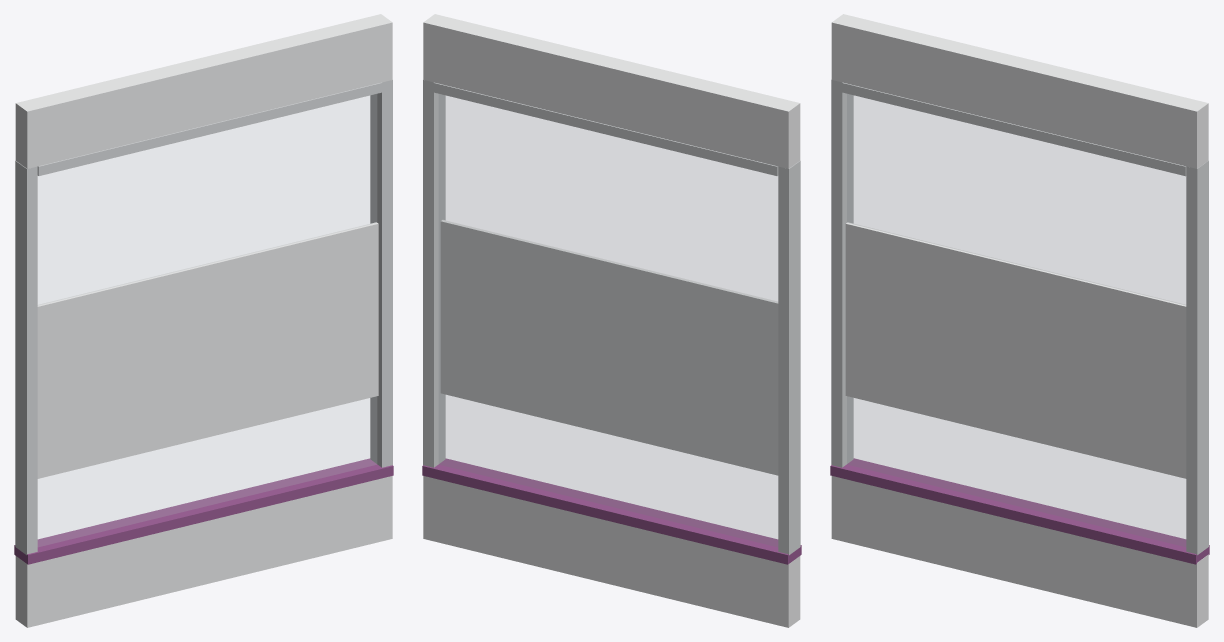
The model's file is pharmacy-and-high-street-chemist-consultation-room-pan-8801557f__37527.glb.
3 renders of one model, left to right at view 1: azimuth 30°, elevation 25°; view 2: azimuth 150°, elevation 25°; view 3: azimuth 330°, elevation 25°, orthographic.
Parts seen in each view (by area): view 1: consultation-room-panel; view 2: consultation-room-panel; view 3: consultation-room-panel.
Boxes of the visible parts, x1,y1,x2,y2 form: consultation-room-panel: [14, 14, 393, 627]; consultation-room-panel: [422, 14, 801, 627]; consultation-room-panel: [830, 14, 1209, 627].
Size of the model in its own units: 2 by 2.7 by 0.1299.
